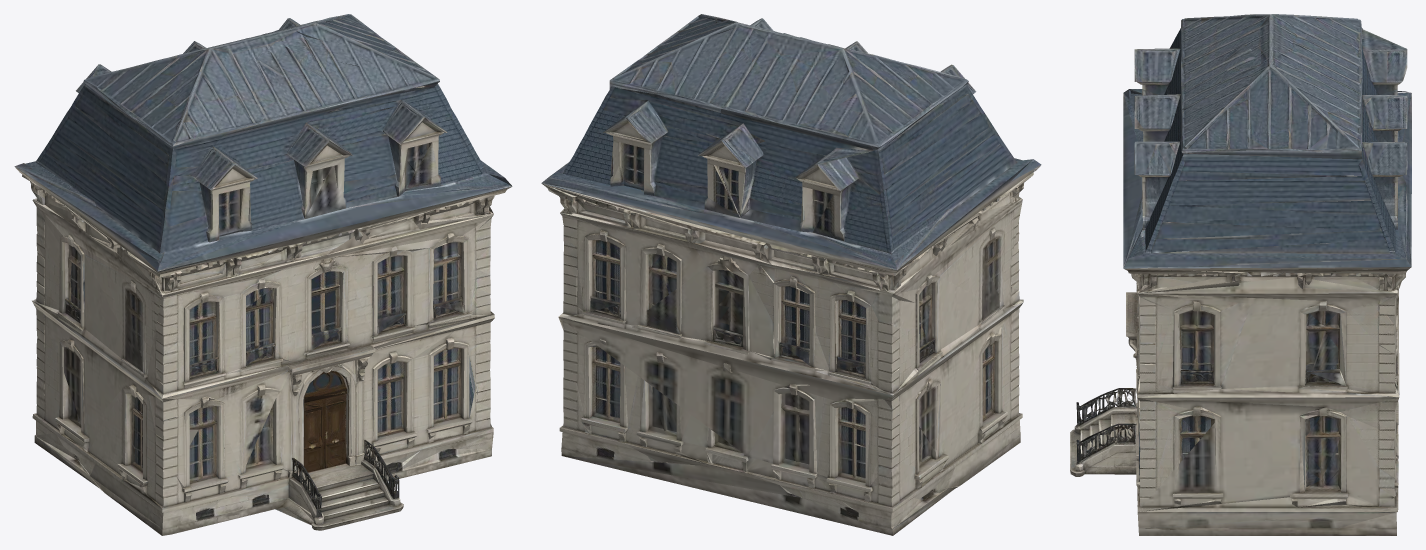
File: kestrohouse.glb
3 views of the same model, side by side, from view 1: azimuth 30°, elevation 25°; view 2: azimuth 150°, elevation 25°; view 3: azimuth 270°, elevation 25° (orthographic).
Visible parts, largest first — view 1: kestrohouse-centred; view 2: kestrohouse-centred; view 3: kestrohouse-centred.
Part boxes in pixels (x1=…): kestrohouse-centred: x1=14, y1=14, x2=512, y2=535; kestrohouse-centred: x1=541, y1=14, x2=1041, y2=535; kestrohouse-centred: x1=1070, y1=14, x2=1411, y2=535.
Bounding box in the file's own units: 14.4 × 16 × 11.94.
1 material, 1 textured.
